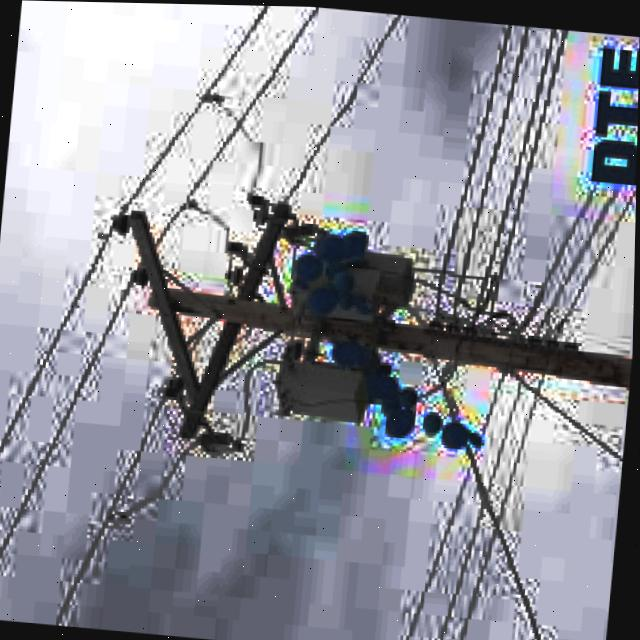obstruction: (332, 340, 418, 435), (294, 231, 372, 313), (448, 426, 480, 445), (424, 411, 442, 429)
poles: (113, 196, 630, 449)
wires: (400, 24, 574, 344), (0, 277, 134, 574), (158, 7, 318, 242), (0, 229, 115, 463), (284, 14, 400, 199), (465, 423, 546, 640), (53, 515, 111, 625)
